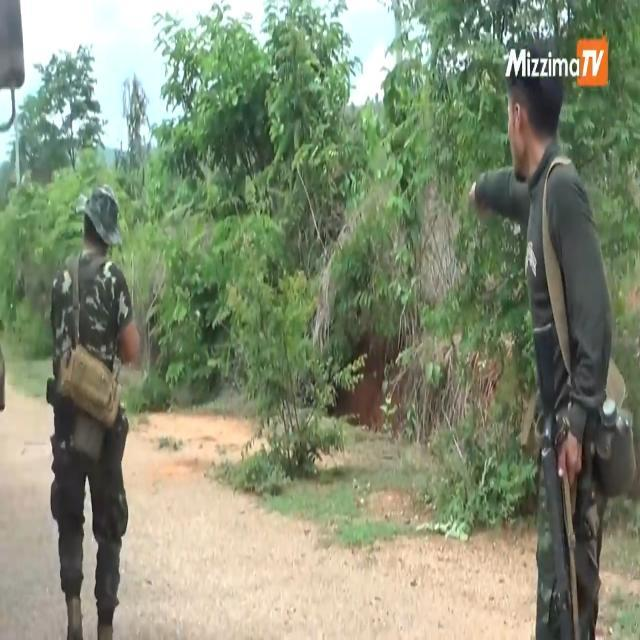MIL_Pax: (471, 73, 611, 638), (51, 187, 140, 638), (536, 435, 569, 640)
